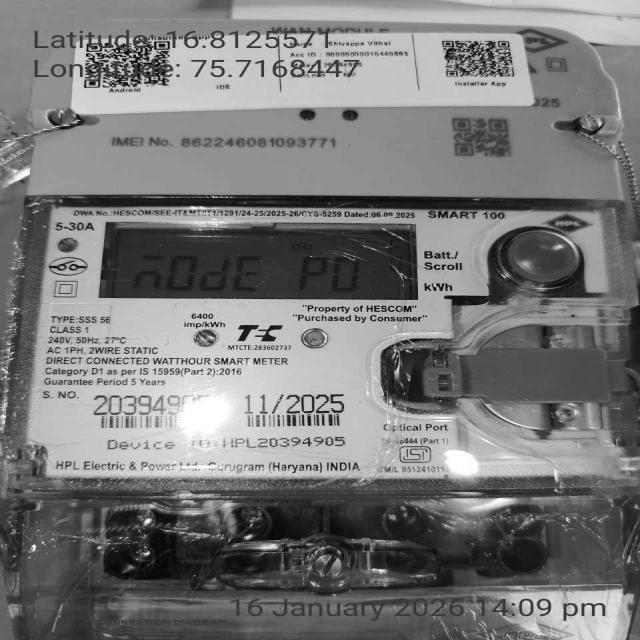meter: (40, 22, 622, 491)
